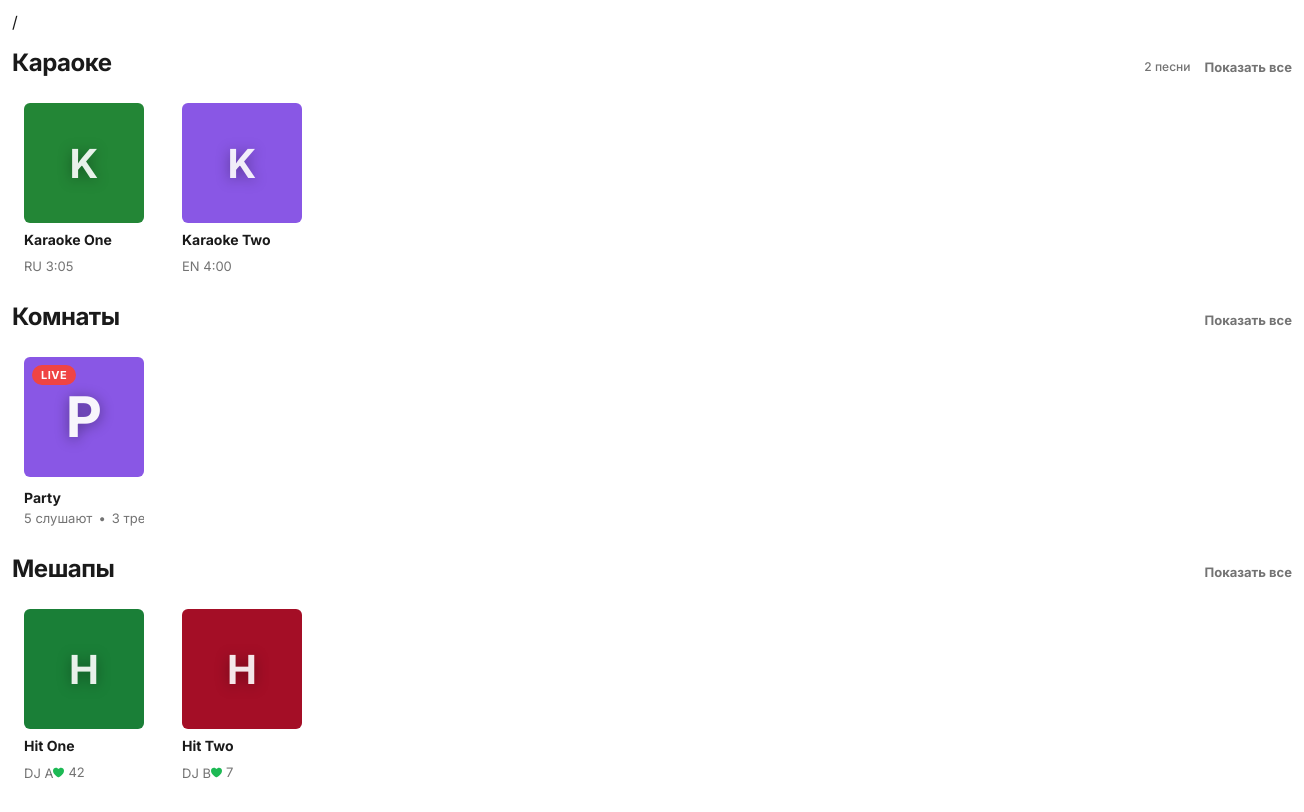
Test: Home › sing button goes to karaoke and closes the panel
The width and height of the screenshot is (1304, 812).
Step 1. Click the button with test id "karaoke-song-card" showing "K Karaoke One RU 3:05" → (84, 188), box [12,91,156,286]
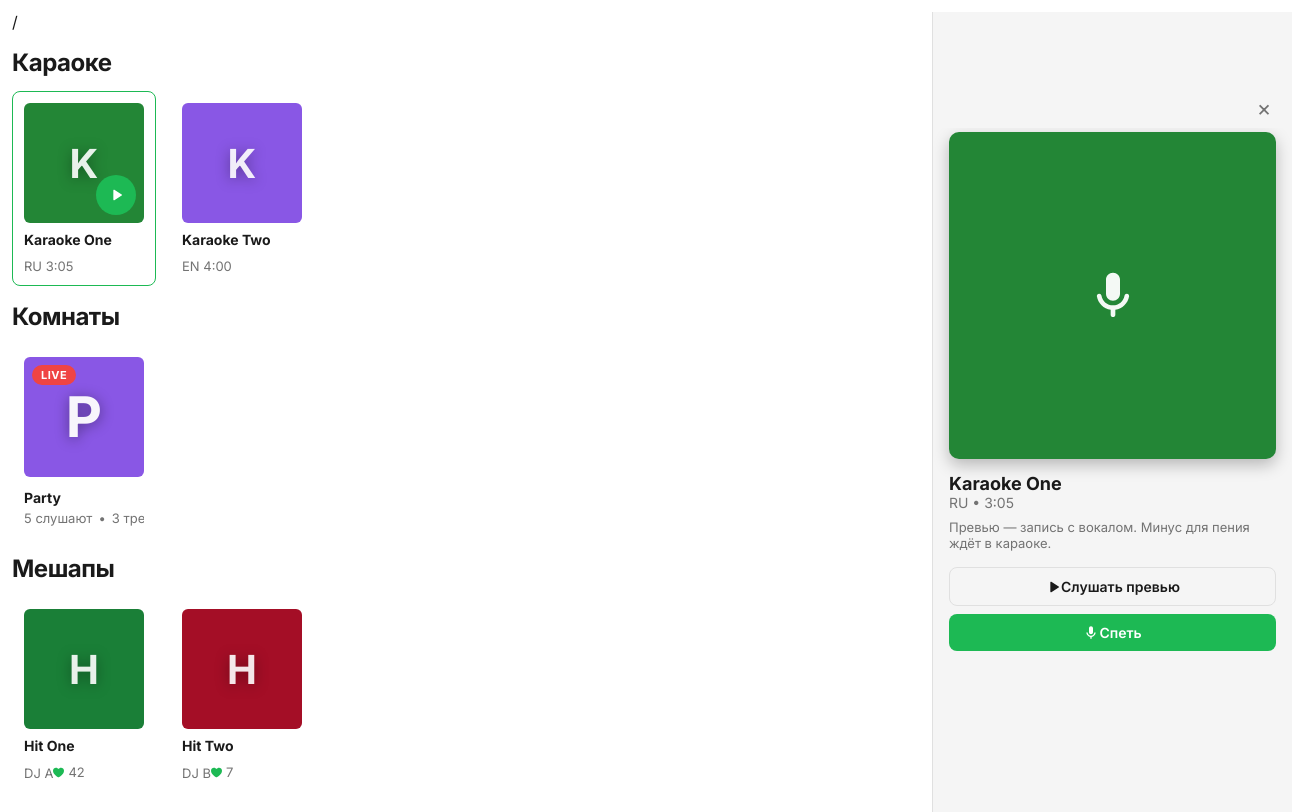
Now the element with test id "karaoke-preview-panel" is shown, box [932,12,1292,811]
Step 2. Click the button "Спеть" → (1112, 632), box [949,614,1276,651]
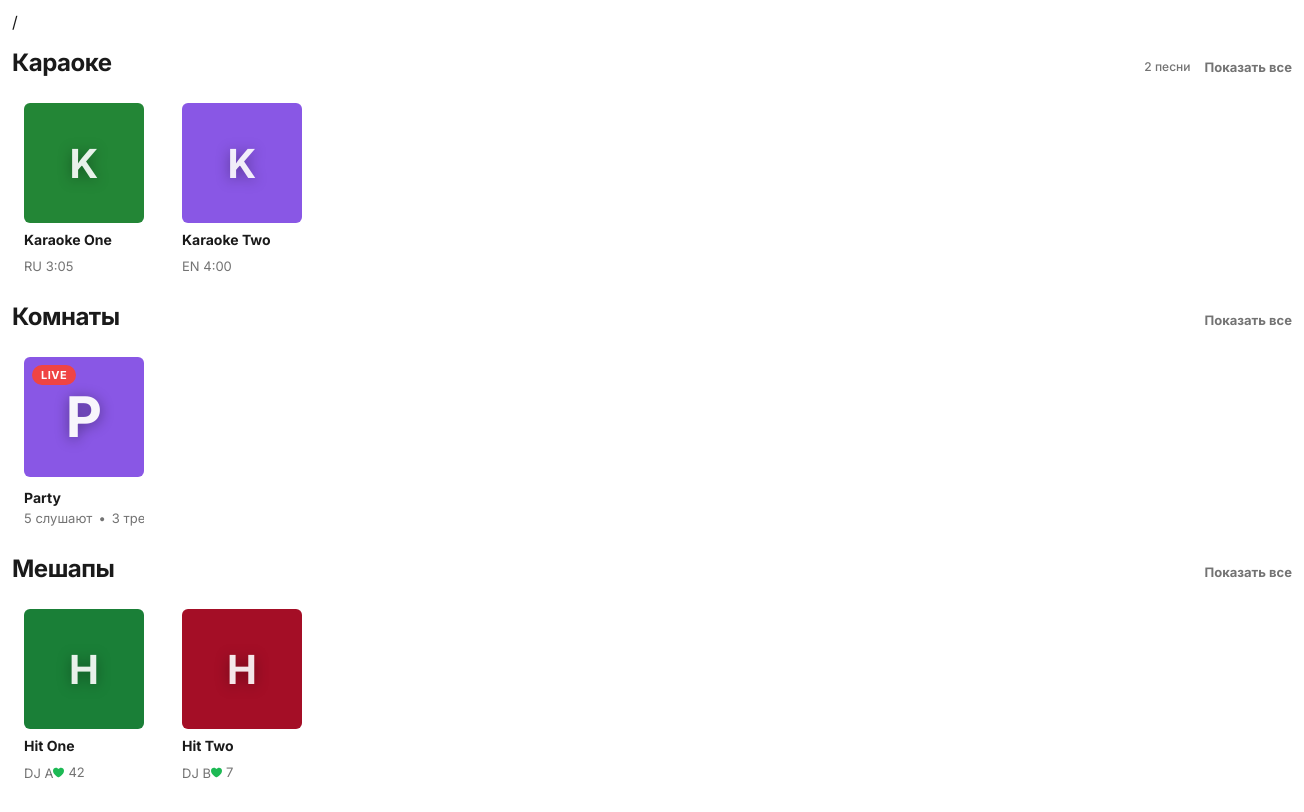
Now the element with test id "karaoke-preview-panel" is gone
